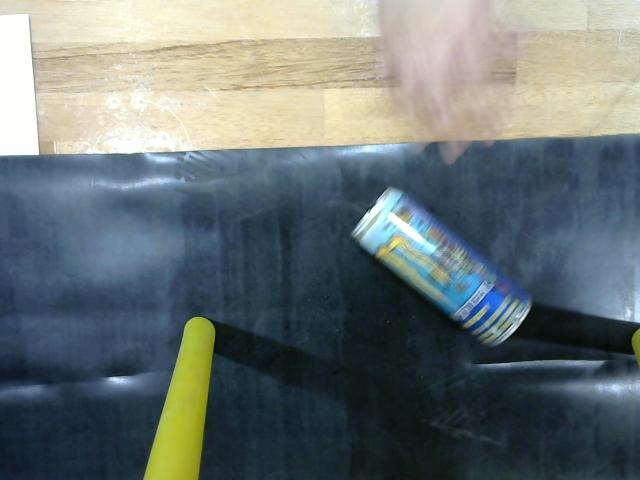can: (343, 176, 541, 356)
